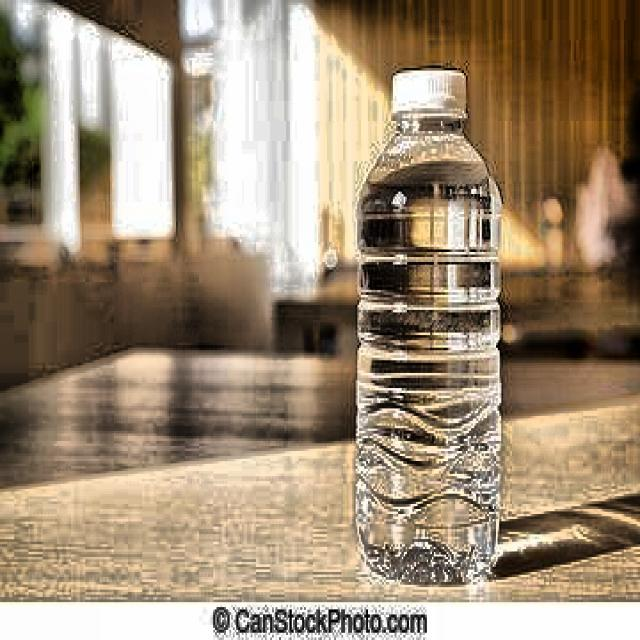Bottles: (352, 63, 502, 594)
